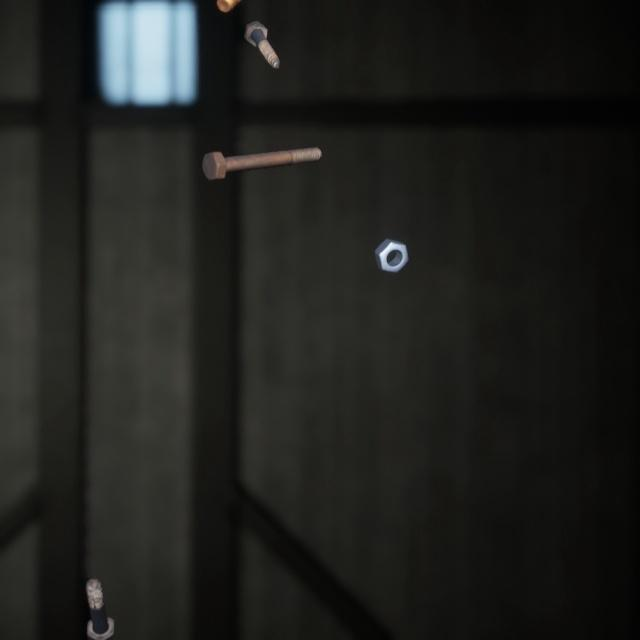bolt: (198, 128, 325, 170), (81, 550, 119, 626), (239, 7, 284, 62)
nut: (370, 218, 413, 262)
